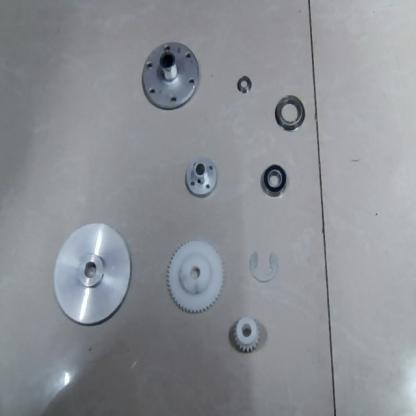FOD: (50, 214, 134, 335), (138, 39, 204, 116), (163, 234, 224, 315), (182, 152, 221, 203), (269, 91, 307, 134), (247, 243, 280, 284), (231, 314, 263, 354), (259, 162, 290, 202), (232, 75, 255, 96)
